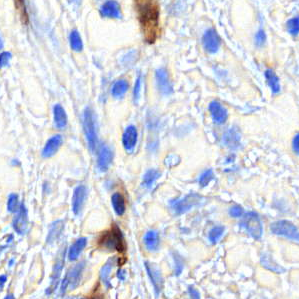Lymphocyte: (100, 220, 131, 264)
